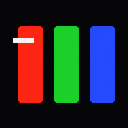3 line_h: (13, 38, 33, 42)
